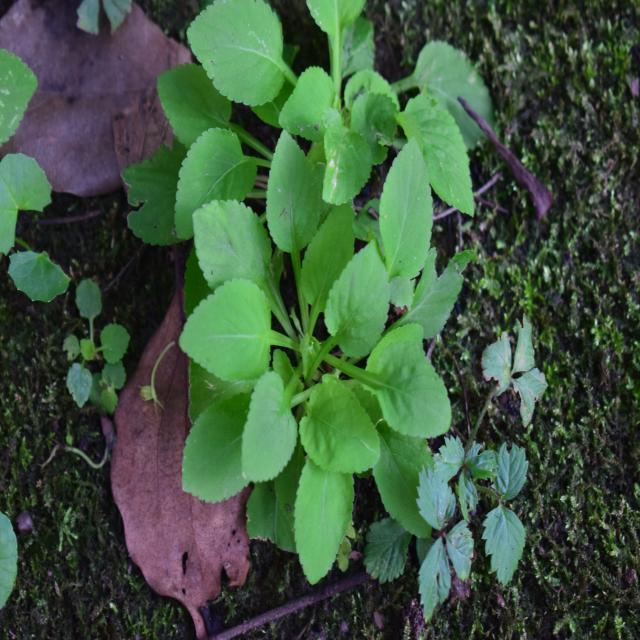Viola: (174, 164, 418, 506)
